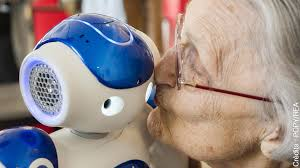nao: (1, 9, 174, 168)
